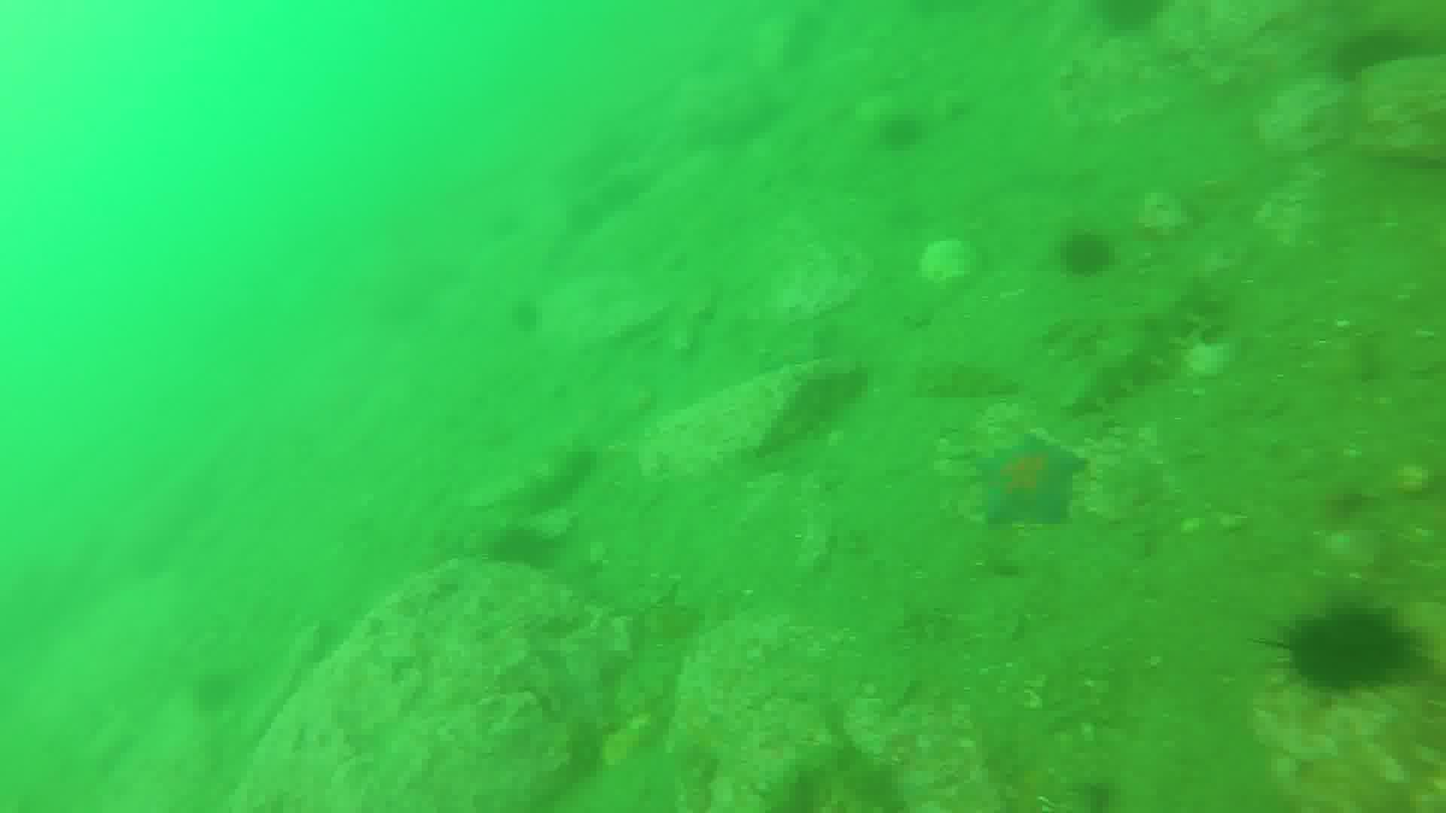echinus: (1066, 269, 1222, 411), (900, 356, 1021, 394)
holothurian: (965, 435, 1088, 525)
starfish: (1268, 597, 1427, 689), (1341, 24, 1417, 82), (1063, 228, 1115, 281), (490, 522, 538, 569), (879, 116, 927, 153), (192, 677, 228, 711)
